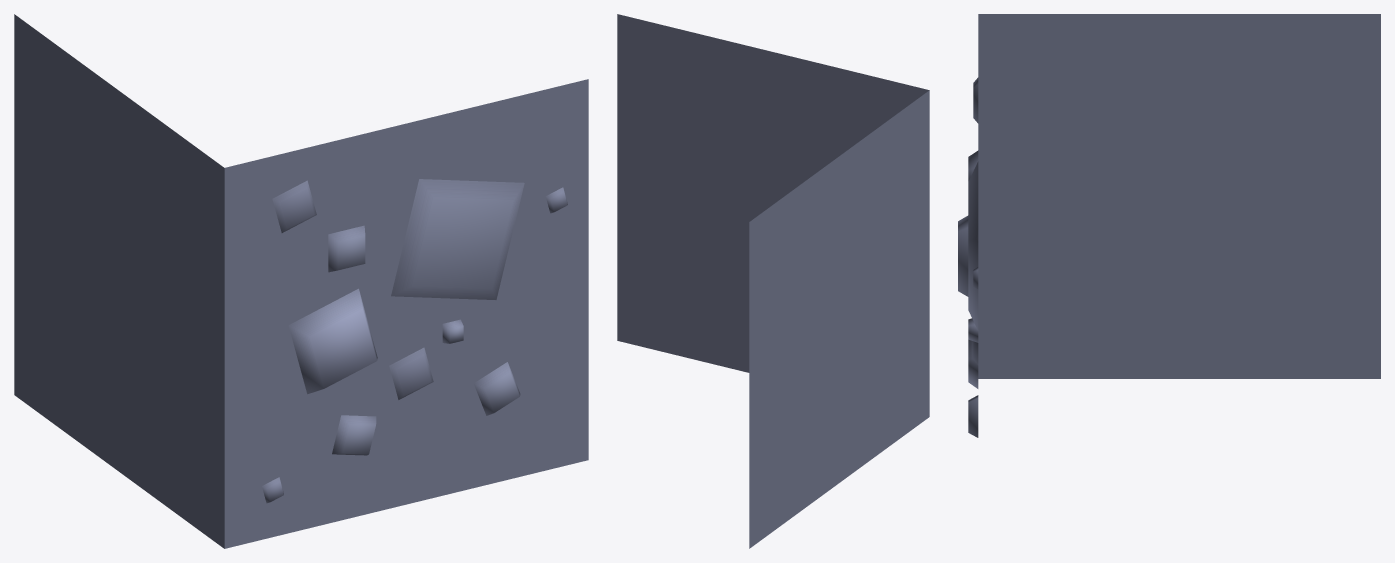
The model's file is floor-vertical-edge-corner-detail.glb.
3 renders of one model, left to right at view 1: azimuth 30°, elevation 25°; view 2: azimuth 150°, elevation 25°; view 3: azimuth 270°, elevation 25°, orthographic. The views are drawn at different scales.
Parts seen in each view (by area): view 1: floor-detail; view 2: floor-detail; view 3: floor-detail.
Part boxes in pixels (x1,y1,x2,y2): floor-detail: (14, 14, 588, 548); floor-detail: (617, 14, 929, 548); floor-detail: (958, 14, 1380, 437).
Size of the model in its own units: 1 by 1 by 1.05.
Materials: 3 (3 with a texture image).
